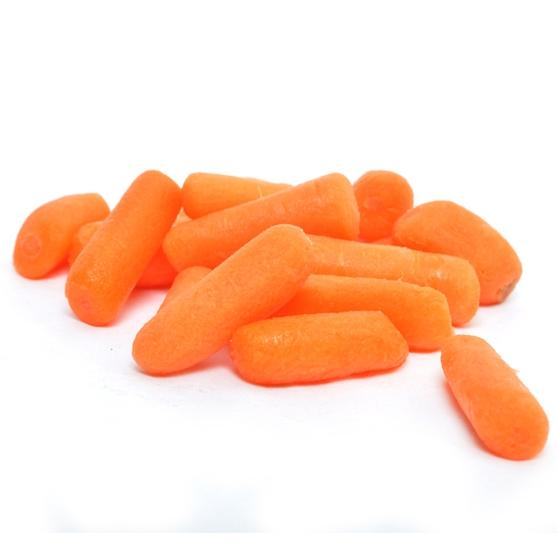carrot: (66, 170, 184, 327), (226, 309, 418, 393)
